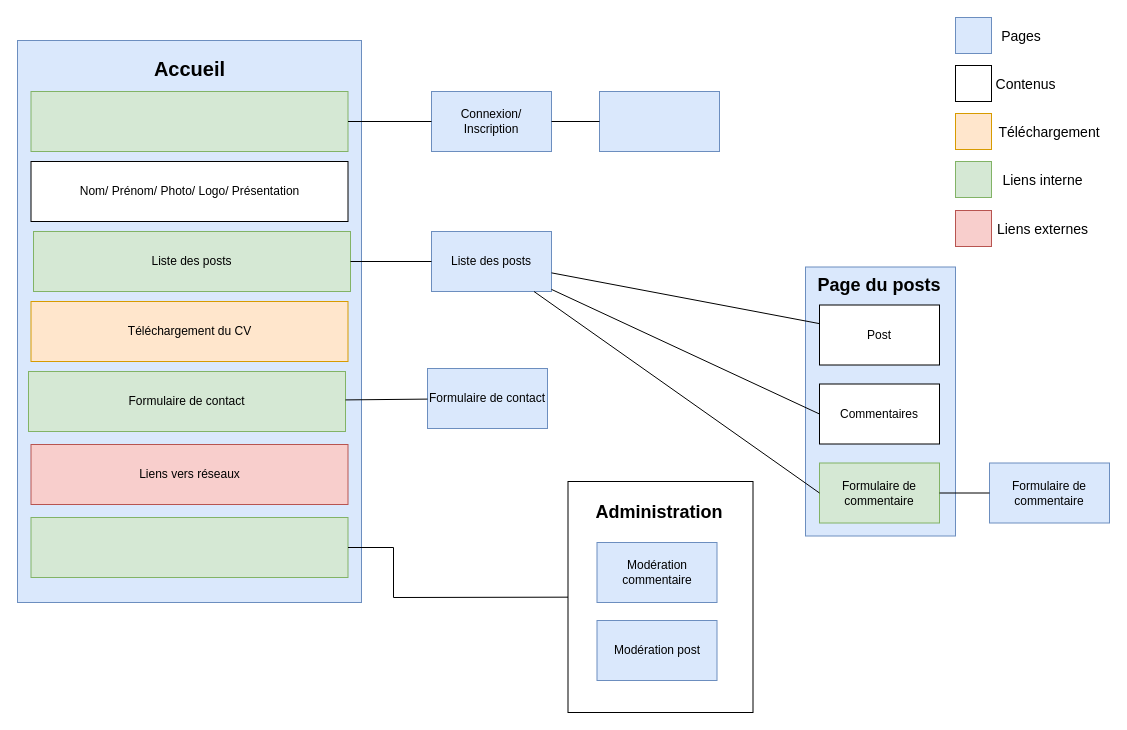
The diagram is 1127 pixels wide and 730 high, and some of its shapes have lost their labels. The shapes that lost their labels are listed below. From the top down, each one's centre as x and y in pixels, then its label:
At pixel 189 121: "Menu nav/ Connexion/ Notifications".
At pixel 659 121: "Formulaire inscription".
At pixel 189 547: "Footer".
